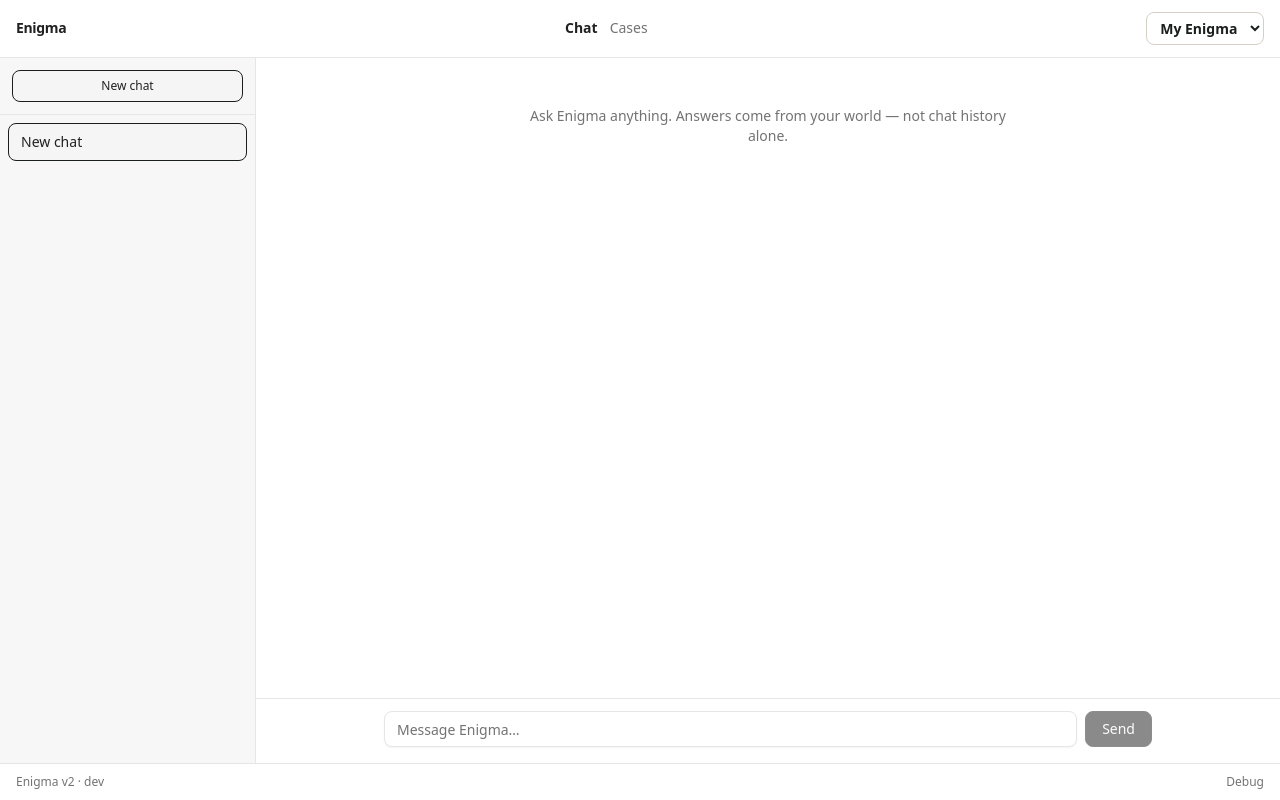
UI2-05 inspectability minimal › Goose click opens compact sheet with work labels from licence
Step 1. Select "Alex Lab" in the 1st dropdown with test id "world-switcher" → (1205, 28), box [1146,12,1264,45]
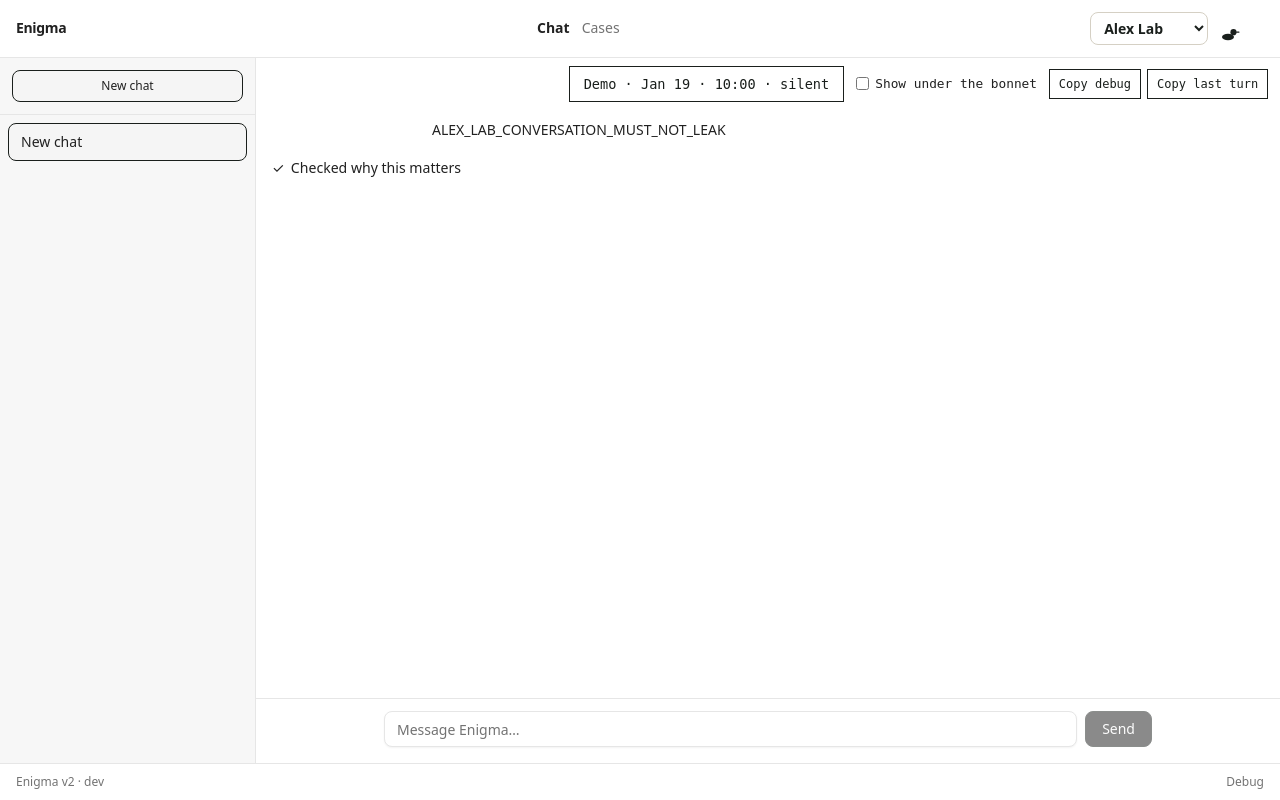
Expected: the element with test id "v2-shell" has attribute data-world="alex_lab"
Step 2. Click the button named "explain checked why this matters" → (1230, 34), box [1220,26,1240,42]
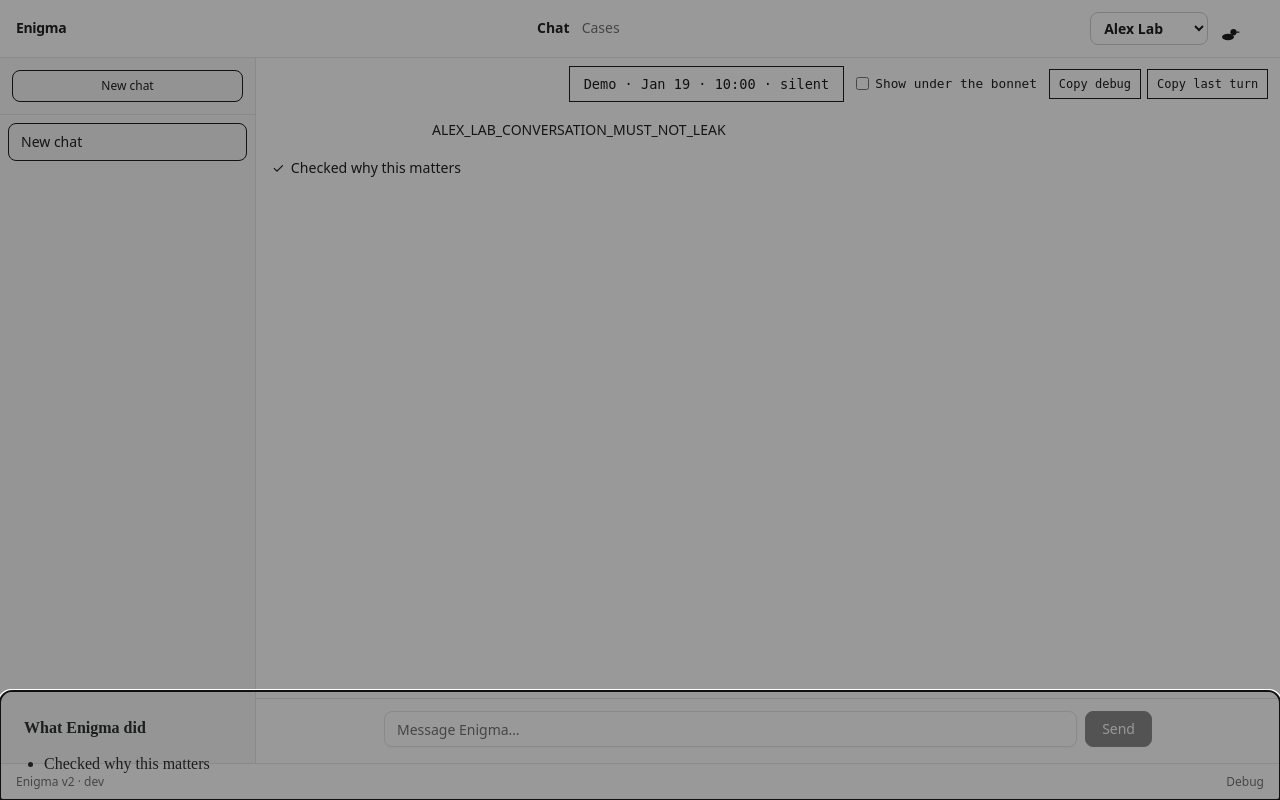
Expected: the dialog with test id "v2-inspect-sheet" is shown, [0,691,1279,799]
Expected: the list with test id "v2-inspect-work-labels" reads "Checked why this matters", [44,755,210,772]
